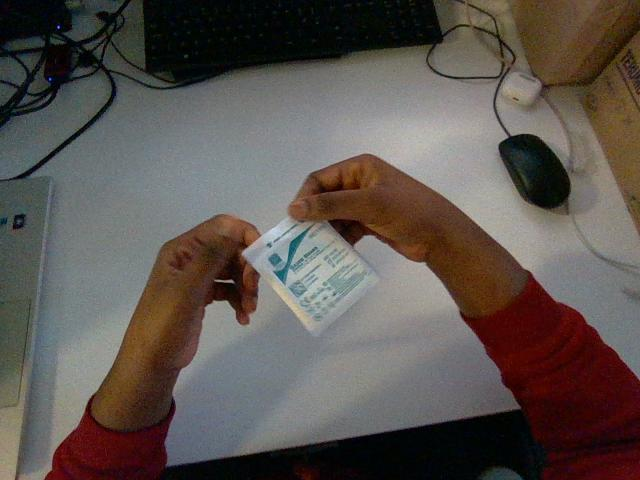gauze: (242, 218, 378, 334)
